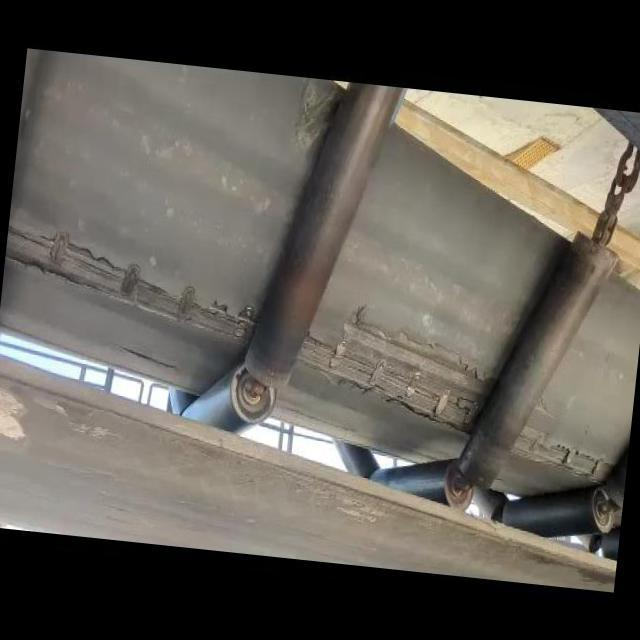Tear: (10, 208, 260, 345), (330, 300, 484, 440), (514, 405, 623, 489)
Wear: (292, 75, 341, 153)
